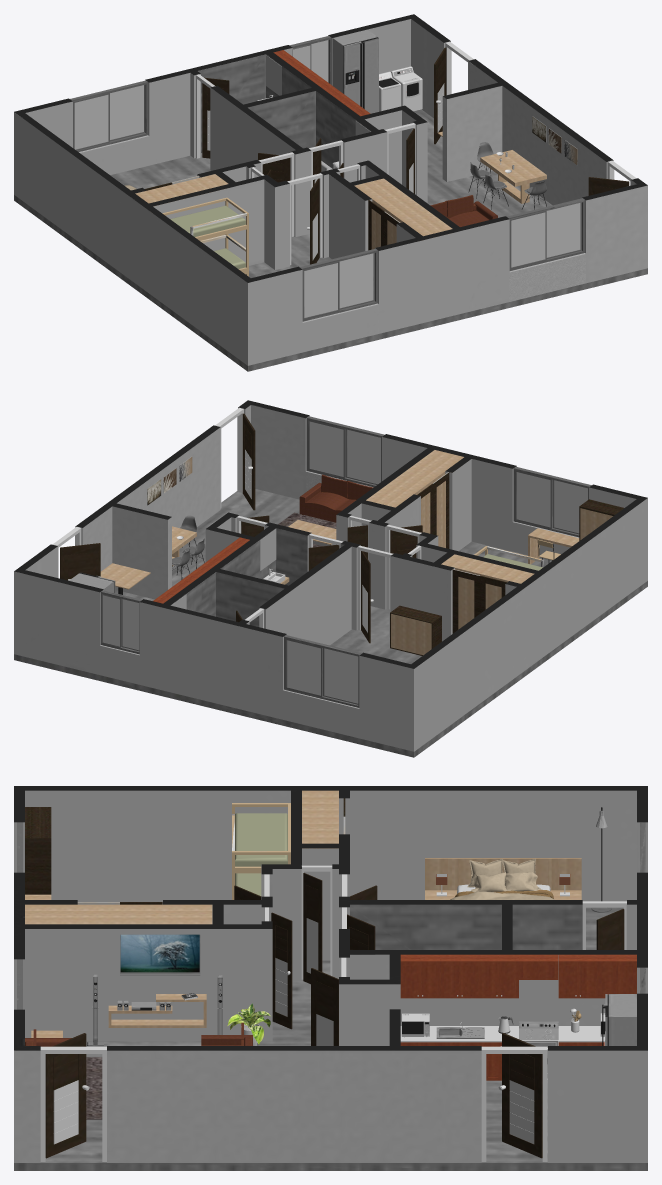
The model's file is apartment_2bed.glb.
3 views of the same model, one above another, from view 1: azimuth 30°, elevation 25°; view 2: azimuth 150°, elevation 25°; view 3: azimuth 270°, elevation 25° (orthographic). The views are drawn at different scales.
Parts seen in each view (by area): view 1: Assembly-2_5, Assembly-4_1, Assembly-6_3; view 2: Assembly-2_5, Assembly-6_3, Assembly-4_1; view 3: Assembly-2_5, Assembly-6_3, Assembly-4_1.
Boxes of the visible parts, <box> form: Assembly-2_5: <box>14,14,647,365</box>; Assembly-4_1: <box>14,54,647,371</box>; Assembly-6_3: <box>135,47,629,264</box>; Assembly-2_5: <box>14,400,647,751</box>; Assembly-6_3: <box>60,413,623,655</box>; Assembly-4_1: <box>14,456,647,757</box>; Assembly-2_5: <box>14,786,647,1162</box>; Assembly-6_3: <box>25,790,636,1158</box>; Assembly-4_1: <box>14,859,647,1170</box>.
Bounding box in the file's own units: 10.79 × 2.29 × 10.93.
3 materials, 3 textured.
